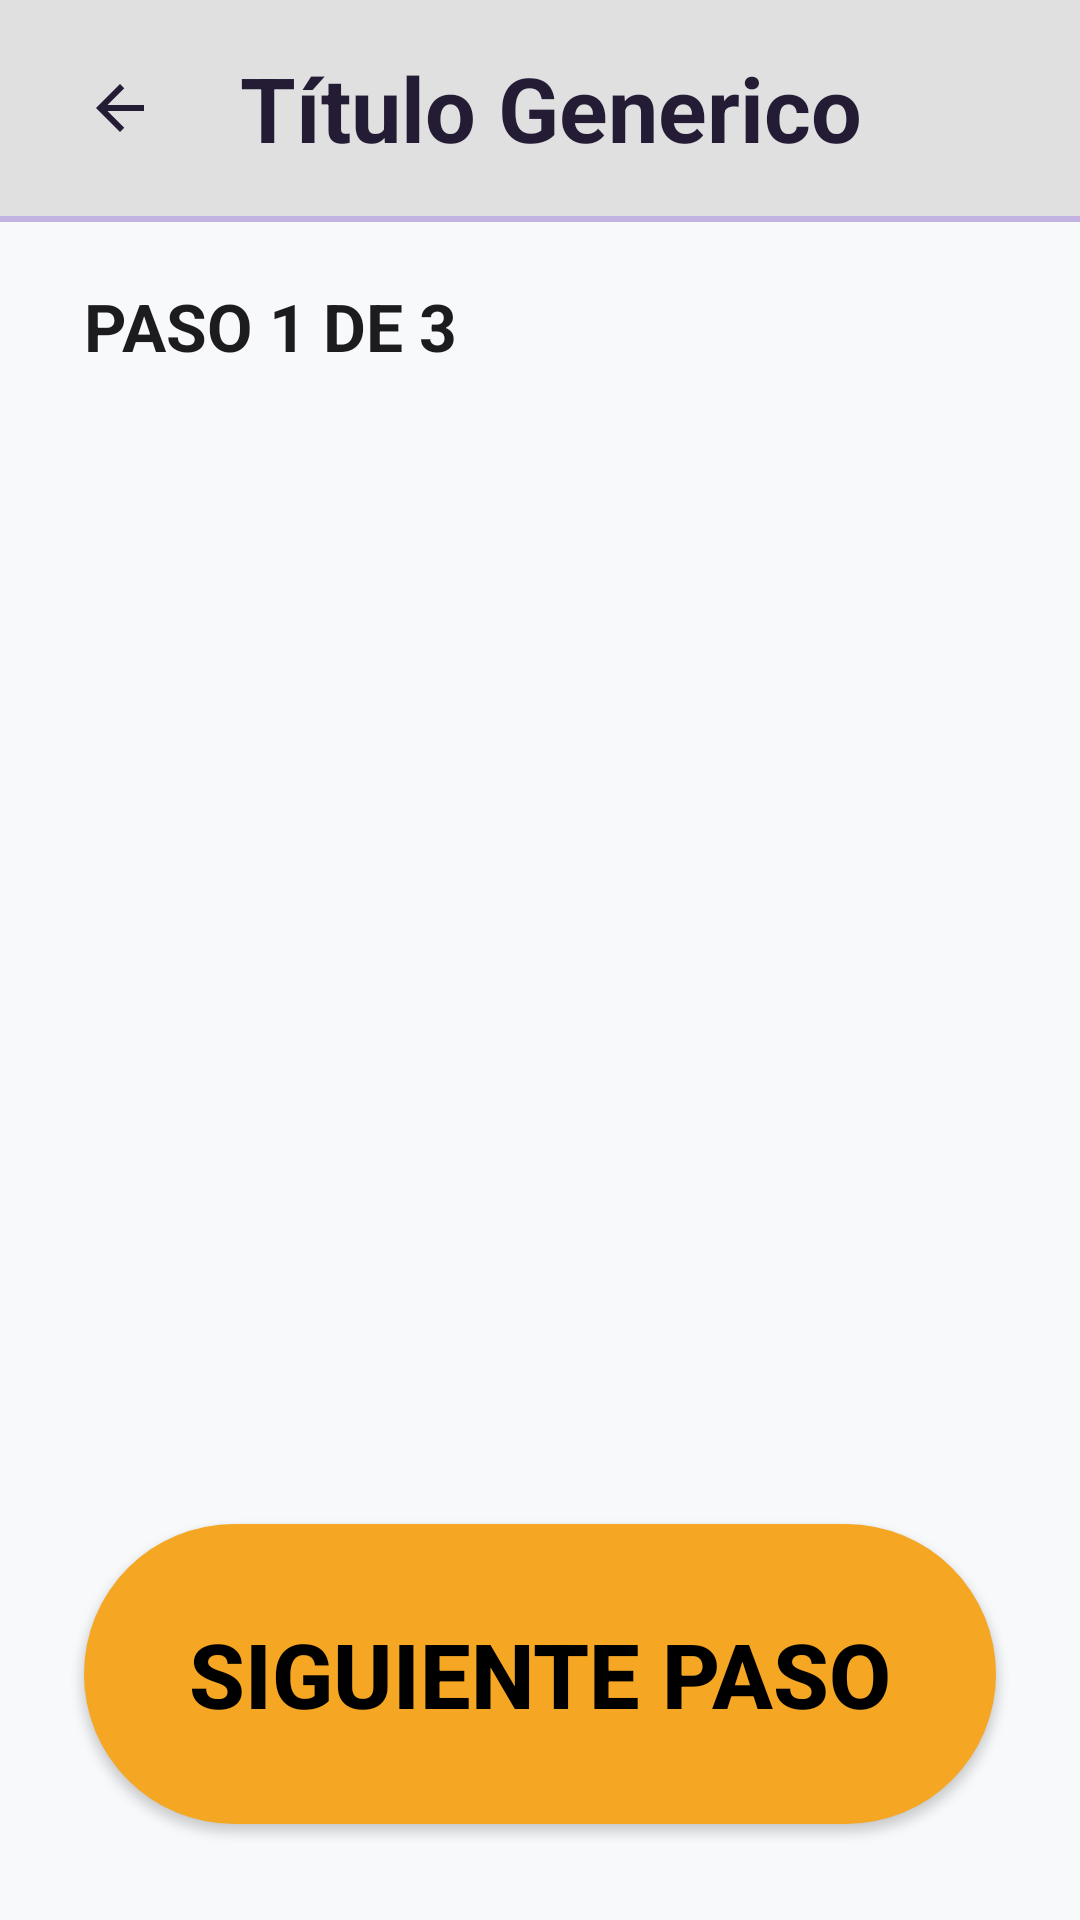

Icons on this 1080x1920 Android screen, each with its box as (x1, y1, x2, y2):
Atrás: (96, 84, 144, 132)
